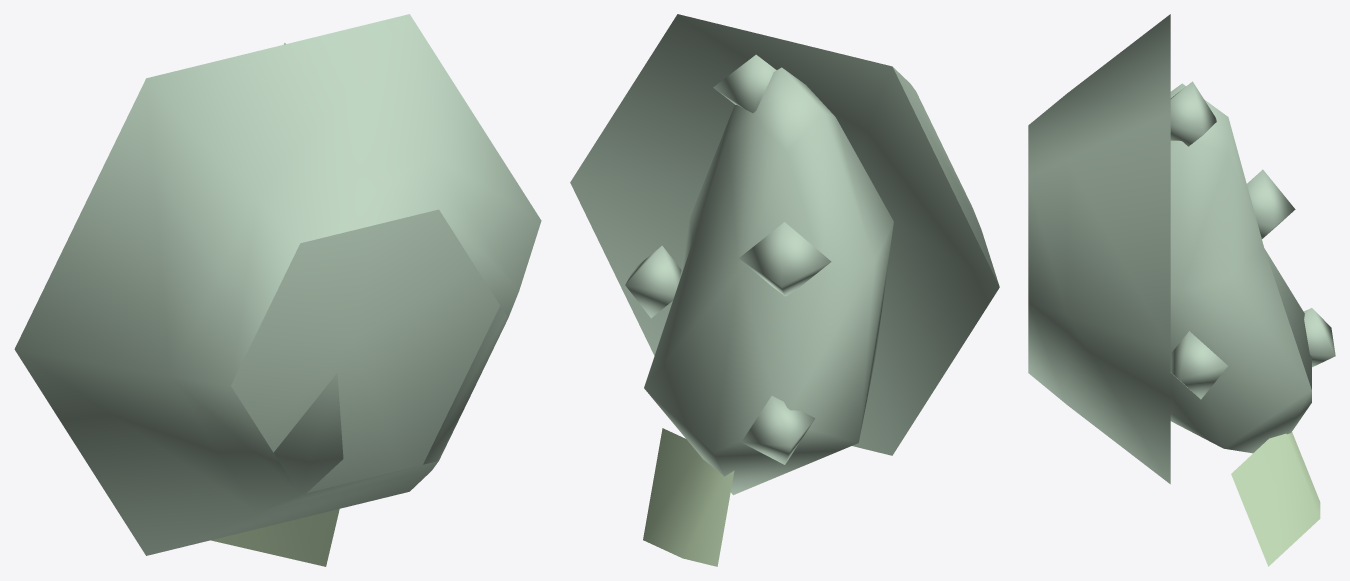
3 views of the same model, side by side, from view 1: azimuth 30°, elevation 25°; view 2: azimuth 150°, elevation 25°; view 3: azimuth 270°, elevation 25° (orthographic). The views are drawn at different scales.
Visible parts, largest first — view 1: Object58; view 2: Object58; view 3: Object58.
Part boxes in pixels (left/top/right/bottom): Object58: left=14, top=14, right=541, bottom=566; Object58: left=570, top=14, right=999, bottom=566; Object58: left=1028, top=14, right=1335, bottom=566.
Bounding box in the file's own units: 4638 × 4995 × 3019.
